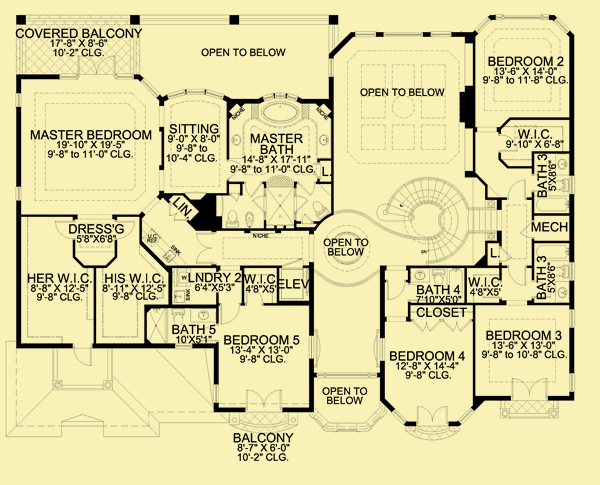door: (74, 55, 117, 78), (244, 388, 283, 409), (510, 377, 549, 397), (415, 404, 450, 425), (195, 230, 216, 263), (217, 301, 242, 325), (73, 343, 94, 367), (385, 279, 406, 303), (506, 264, 526, 287), (505, 178, 527, 198)
large_sink: (225, 208, 243, 229), (429, 268, 447, 287), (310, 200, 328, 218), (548, 262, 569, 277), (170, 307, 186, 326)
small_sink: (188, 306, 216, 323), (554, 281, 568, 305), (317, 126, 331, 150), (555, 152, 570, 174), (409, 267, 430, 282), (230, 129, 242, 151)
stairs: (378, 175, 474, 265)
tub: (259, 100, 302, 127), (534, 194, 570, 214), (533, 243, 570, 262)
windows: (163, 88, 226, 102), (261, 90, 299, 102), (352, 30, 378, 40), (428, 30, 453, 38)
